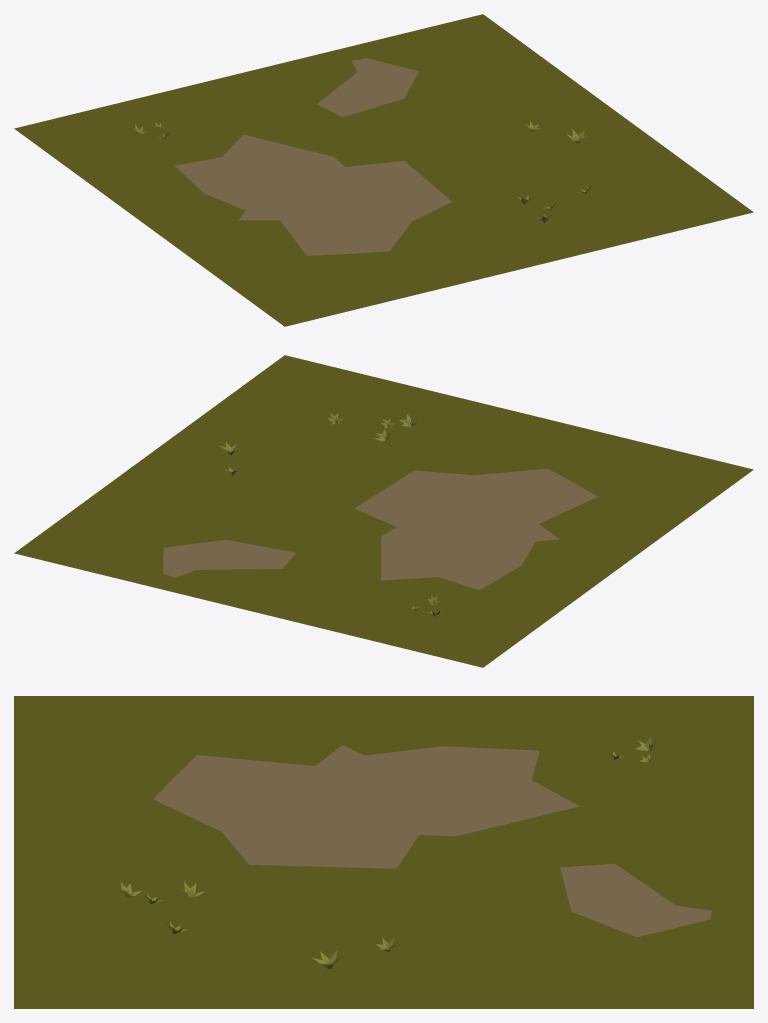
Rendered from Chao 03.fbx.
3 renders of one model, top to bottom at view 1: azimuth 30°, elevation 25°; view 2: azimuth 150°, elevation 25°; view 3: azimuth 270°, elevation 25°, orthographic. The views are drawn at different scales.
Visible parts, largest first — view 1: Chão 03; view 2: Chão 03; view 3: Chão 03.
Boxes of the visible parts, x1=… form: Chão 03: x1=14, y1=14, x2=753, y2=326; Chão 03: x1=14, y1=355, x2=753, y2=667; Chão 03: x1=14, y1=696, x2=753, y2=1008.
Size of the model in its own units: 200 by 5.14 by 200.
